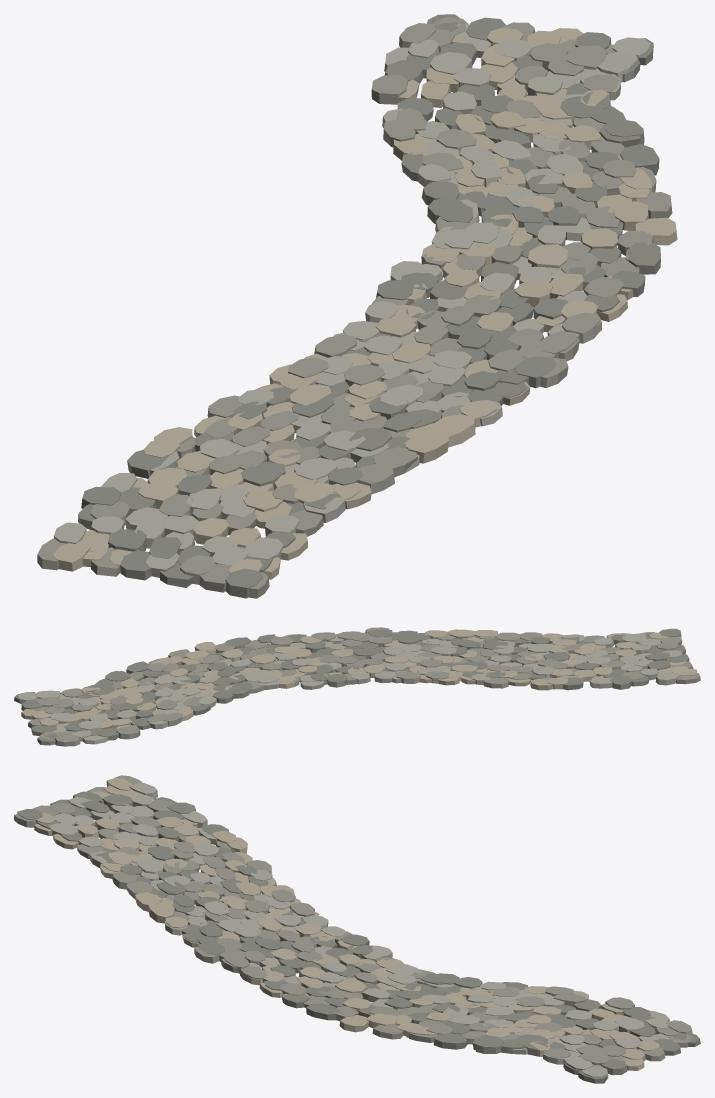
File: SENDERO-ROCA.glb
The picture shows the model from 3 angles, top to bottom: view 1: azimuth 30°, elevation 25°; view 2: azimuth 150°, elevation 25°; view 3: azimuth 270°, elevation 25°; orthographic projection. The views are drawn at different scales.
Parts seen in each view (by area): view 1: Piedra_0344, Piedra_0342, Piedra_0377, Piedra_0360; view 2: Piedra_0377, Piedra_0381, Piedra_0349, Piedra_0355, Piedra_0033, Piedra_0341, Piedra_0329, Piedra_0333, Piedra_0335, Piedra_0337, Piedra_0367, Piedra_0351 (+2 smaller); view 3: no part large enough to name.
Part boxes in pixels (<box>): Piedra_0344: <box>431,414,475,447</box>; Piedra_0342: <box>408,431,448,463</box>; Piedra_0377: <box>371,74,407,104</box>; Piedra_0360: <box>627,242,660,274</box>; Piedra_0377: <box>116,726,140,739</box>; Piedra_0381: <box>55,735,80,746</box>; Piedra_0349: <box>396,671,420,683</box>; Piedra_0355: <box>325,674,347,687</box>; Piedra_0033: <box>610,676,631,689</box>; Piedra_0341: <box>483,677,508,688</box>; Piedra_0329: <box>655,673,678,685</box>; Piedra_0333: <box>589,677,612,688</box>; Piedra_0335: <box>562,677,583,690</box>; Piedra_0337: <box>530,679,552,690</box>; Piedra_0367: <box>212,690,233,703</box>; Piedra_0351: <box>374,671,395,683</box>.
Bounding box in the file's own units: 19.07 × 0.2104 × 18.26.
